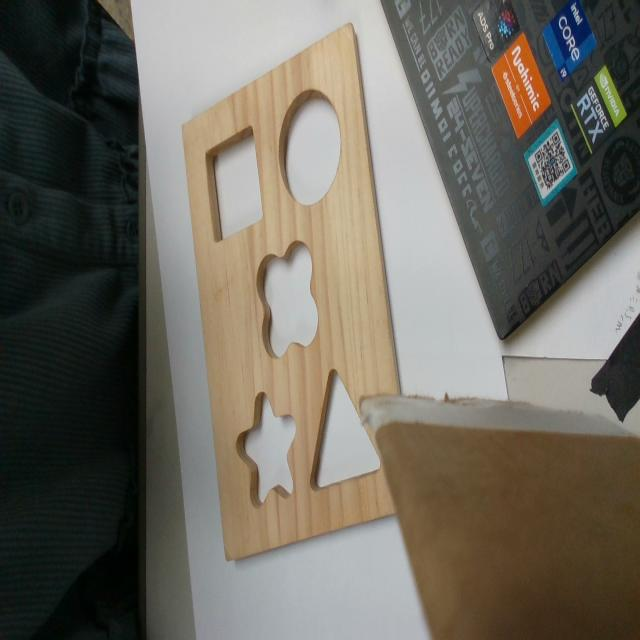circle: (277, 92, 341, 204)
flower: (255, 240, 320, 357)
square: (205, 123, 264, 244)
star: (234, 391, 294, 506)
triangle: (308, 366, 384, 492)
